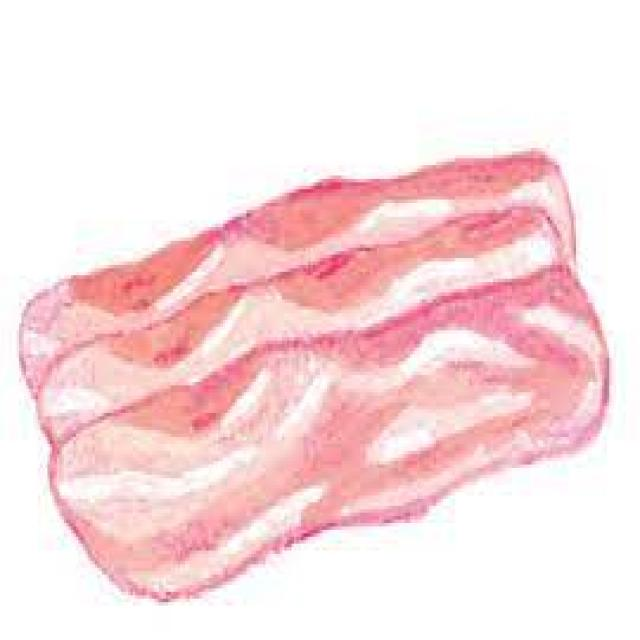bacon: (21, 229, 624, 565)
